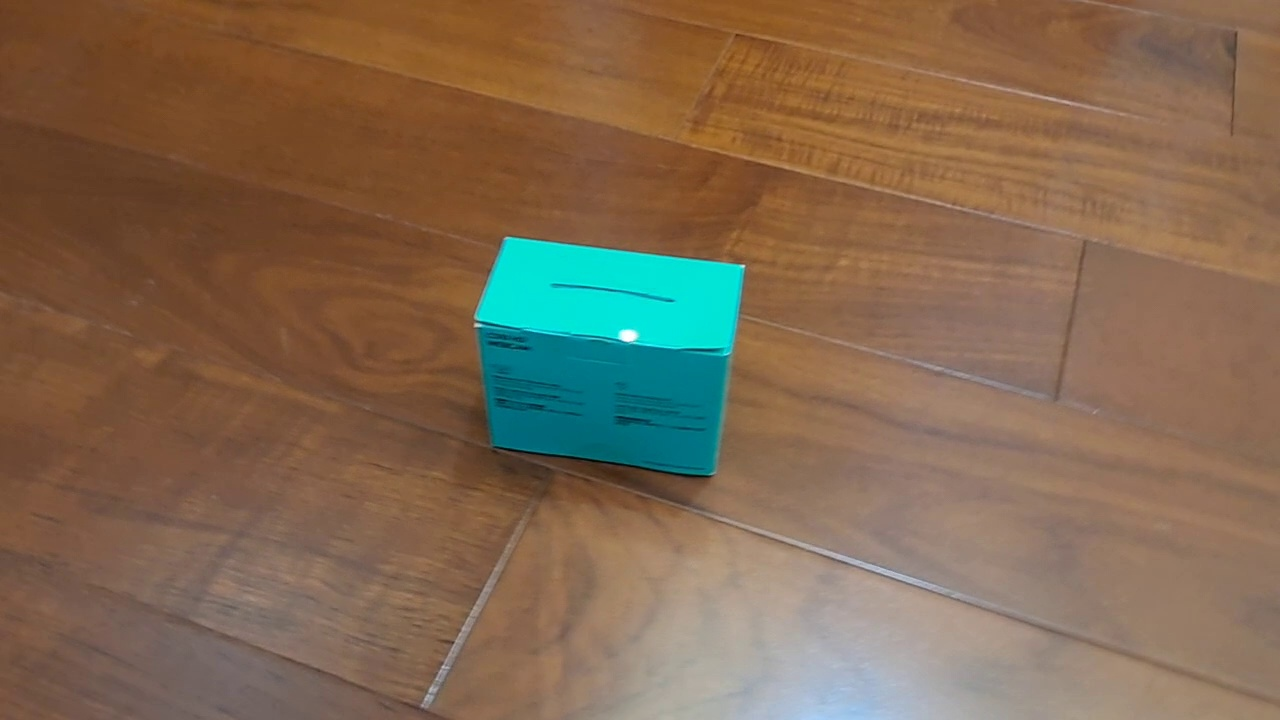webcam: (471, 234, 747, 478)
